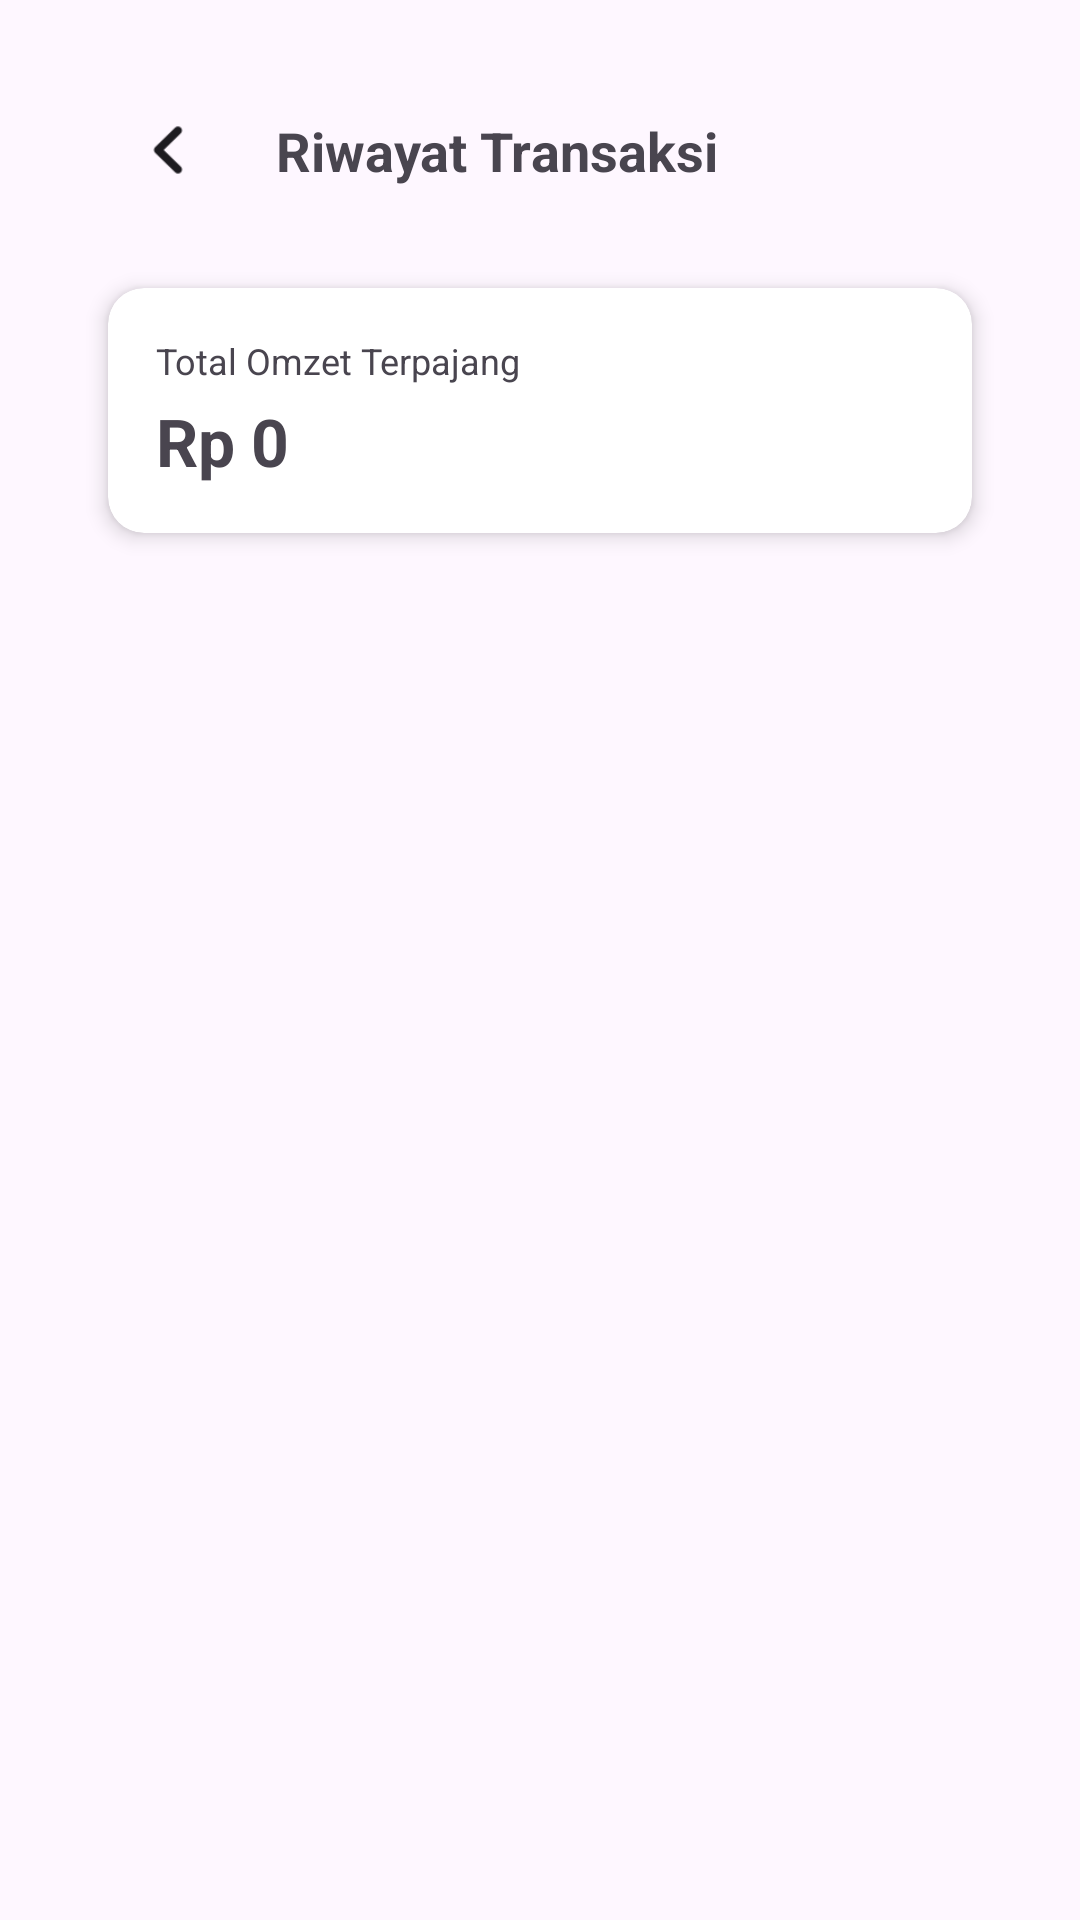

Icons on this 1080 x 1920 Android screen, each with the point to tap as (x,y):
Kembali: (168,150)
